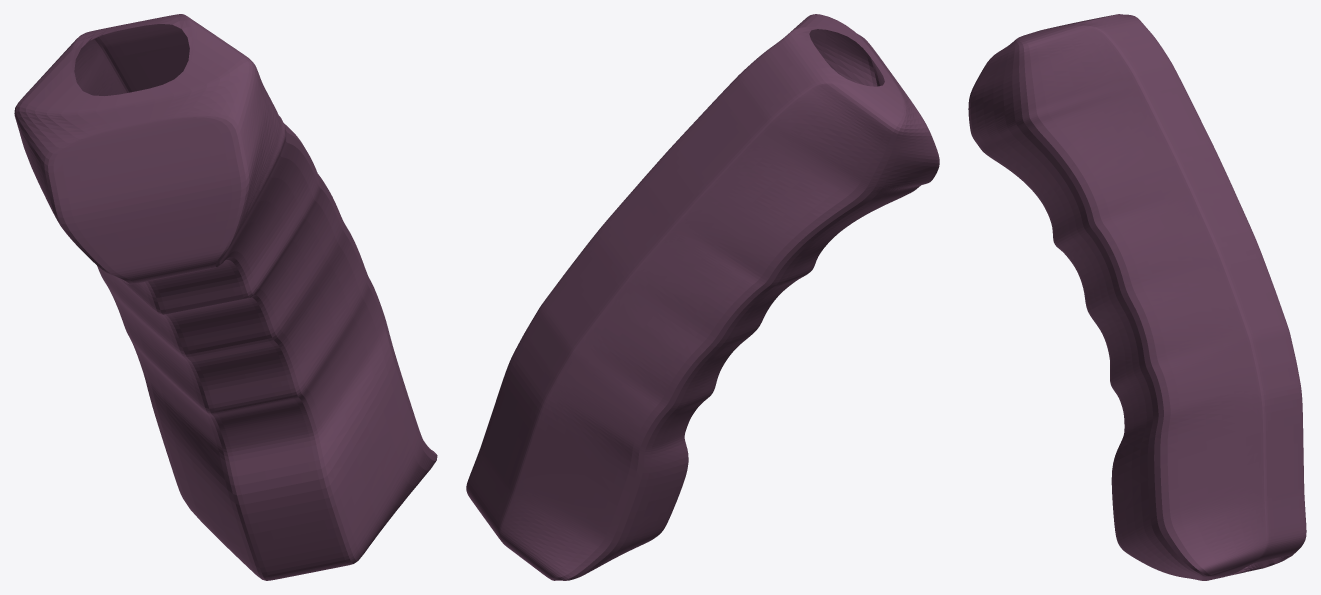
The model's file is flightclub_grip_opt.glb.
The picture shows the model from 3 angles, left to right: view 1: azimuth 30°, elevation 25°; view 2: azimuth 150°, elevation 25°; view 3: azimuth 270°, elevation 25°; orthographic projection. The views are drawn at different scales.
Visible parts, largest first — view 1: controllergrip; view 2: controllergrip; view 3: controllergrip.
Boxes of the visible parts, x1=… form: controllergrip: x1=14, y1=14, x2=437, y2=580; controllergrip: x1=466, y1=14, x2=939, y2=580; controllergrip: x1=968, y1=14, x2=1306, y2=580.
Size of the model in its own units: 4.13 by 5.28 by 3.38.
